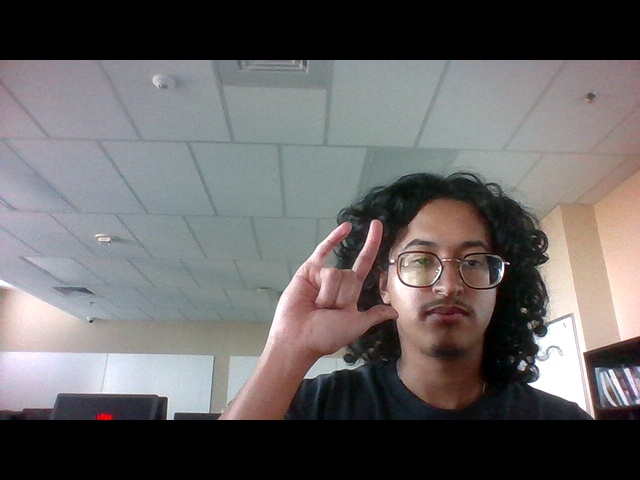iloveyou: (262, 208, 404, 360)
